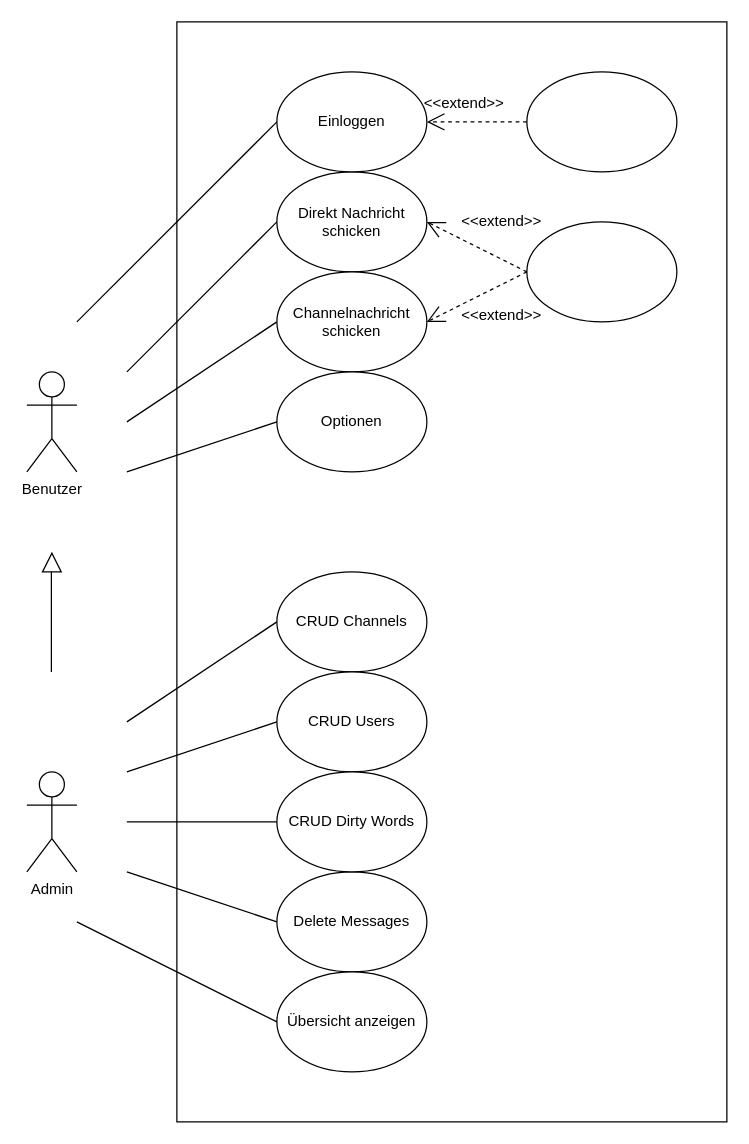
Image size: 749x1144. Some labels were removed from this diagram. The box of each missing label's shape, as (x1, y1, x2, y2) in pixels:
Ausloggen: (526, 71, 677, 172)
Eigene Nachricht löschen: (526, 221, 677, 322)
